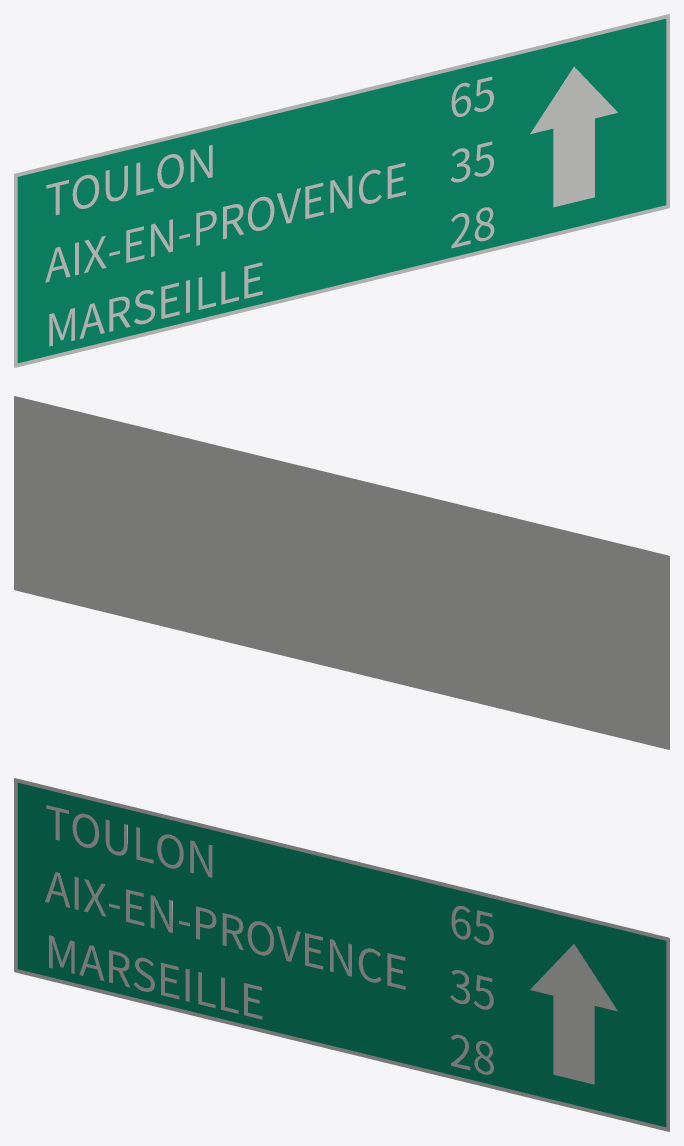
3 renders of one model, top to bottom at view 1: azimuth 30°, elevation 25°; view 2: azimuth 150°, elevation 25°; view 3: azimuth 330°, elevation 25°, orthographic.
Visible parts, largest first — view 1: D41b_reg01, D41b_lis00, D41b_fl02, D41b_txt05, D41b_txt07, D41b_txt03, D41b_txt08, D41b_txt04, D41b_txt06; view 2: D41b_lis00; view 3: D41b_reg01, D41b_lis00, D41b_fl02, D41b_txt05, D41b_txt07, D41b_txt03, D41b_txt04, D41b_txt08, D41b_txt06.
Part boxes in pixels (bbox=[...]): D41b_reg01: bbox=[17, 18, 666, 363]; D41b_lis00: bbox=[14, 14, 669, 367]; D41b_fl02: bbox=[530, 66, 617, 207]; D41b_txt05: bbox=[45, 162, 405, 282]; D41b_txt07: bbox=[49, 262, 262, 346]; D41b_txt03: bbox=[46, 145, 212, 215]; D41b_txt08: bbox=[451, 207, 494, 248]; D41b_txt04: bbox=[451, 76, 493, 116]; D41b_txt06: bbox=[451, 141, 493, 182]; D41b_lis00: bbox=[14, 396, 669, 749]; D41b_reg01: bbox=[17, 782, 666, 1127]; D41b_lis00: bbox=[14, 778, 669, 1131]; D41b_fl02: bbox=[530, 944, 617, 1084]; D41b_txt05: bbox=[45, 872, 405, 989]; D41b_txt07: bbox=[49, 935, 262, 1019]; D41b_txt03: bbox=[46, 805, 212, 877]; D41b_txt04: bbox=[451, 906, 493, 944]; D41b_txt08: bbox=[451, 1034, 493, 1074]; D41b_txt06: bbox=[450, 970, 493, 1009].
Size of the model in its own units: 6.78 by 1.92 by 0.0036.
